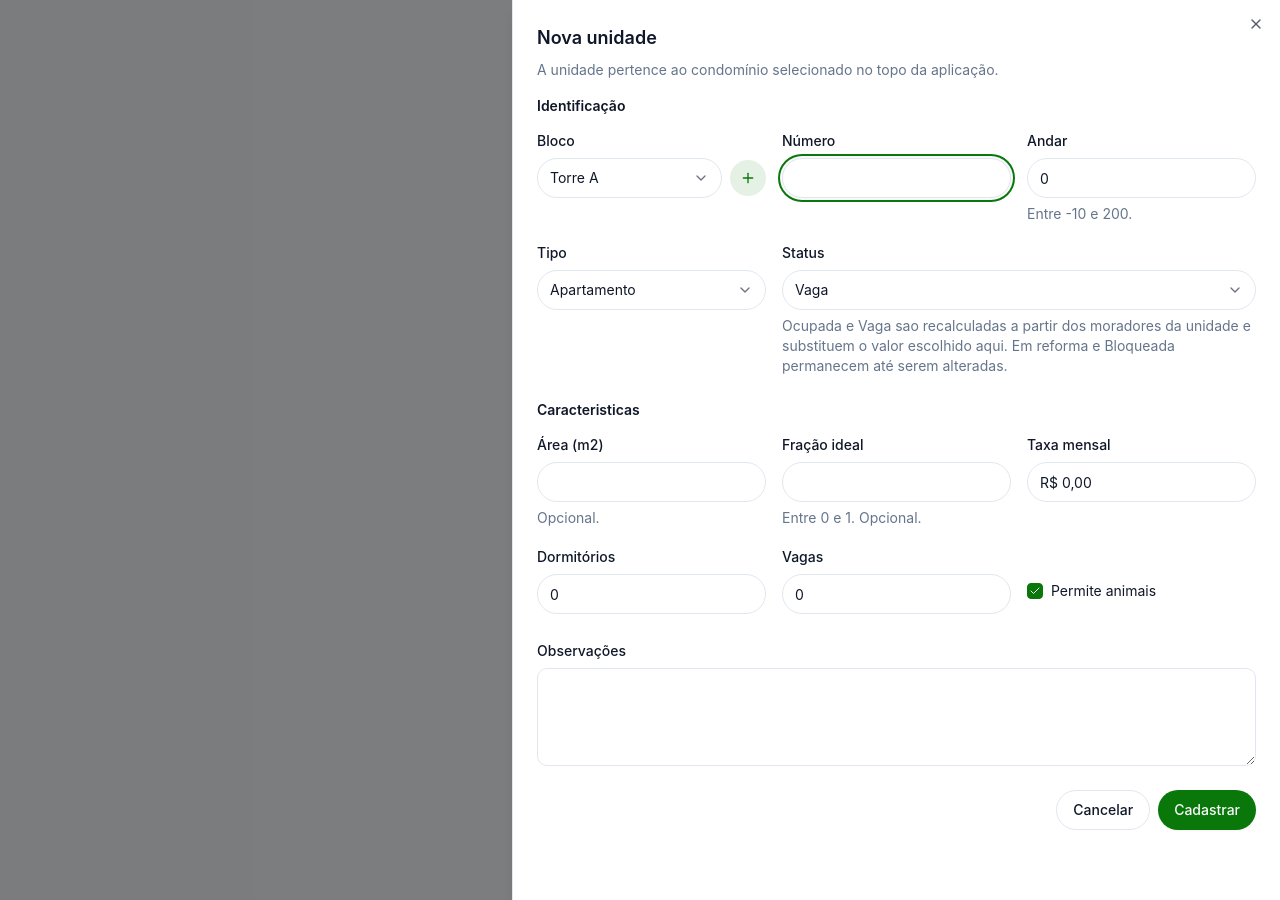
Cadastro de unidade › IT-055: 409 de bloco em outro condomínio aparece com a mensagem do servidor
Step 1. Type "101" into the field labelled "Número" → (896, 178), box [782,158,1011,198]
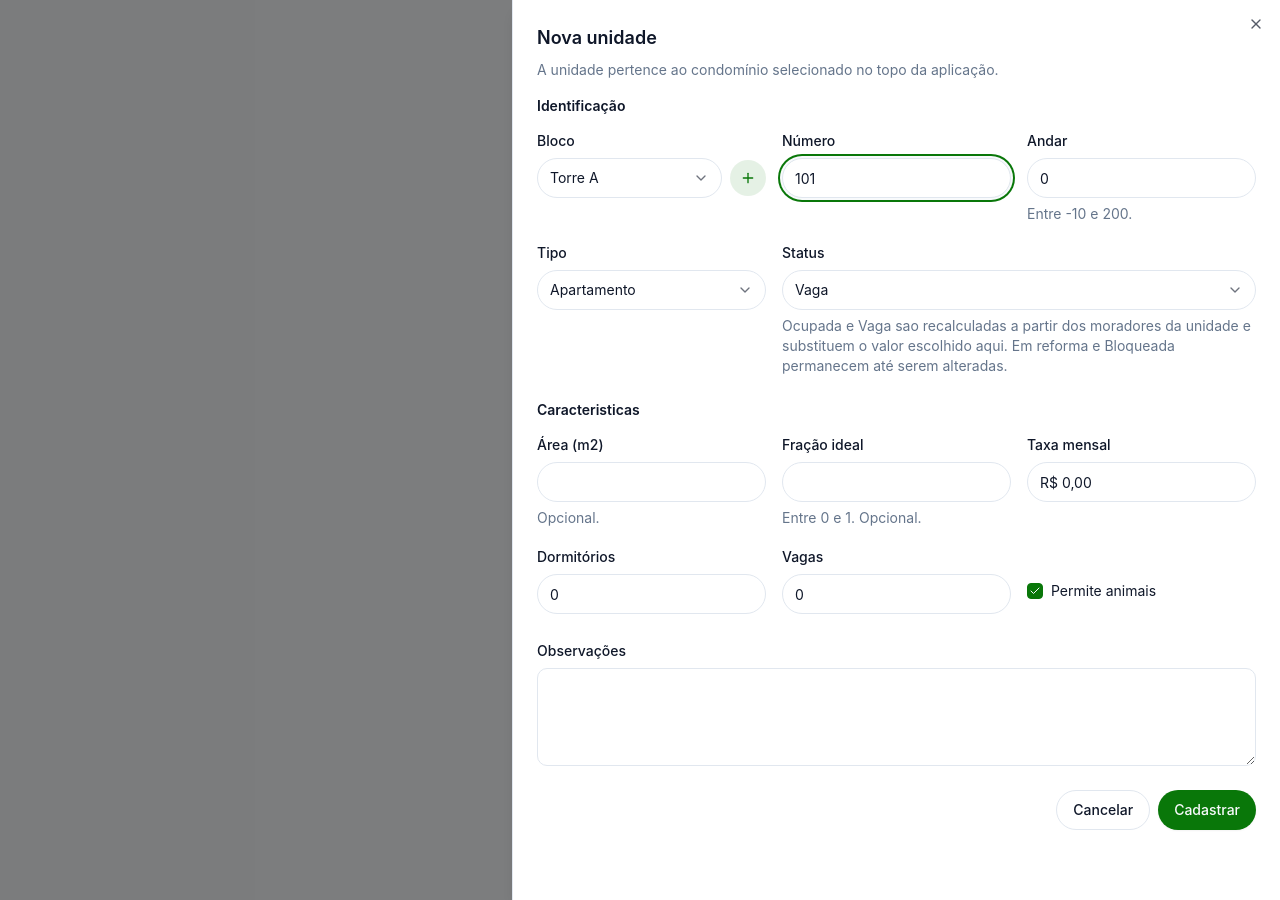
Step 2. Click the button "Cadastrar" → (1207, 810), box [1158,790,1256,830]
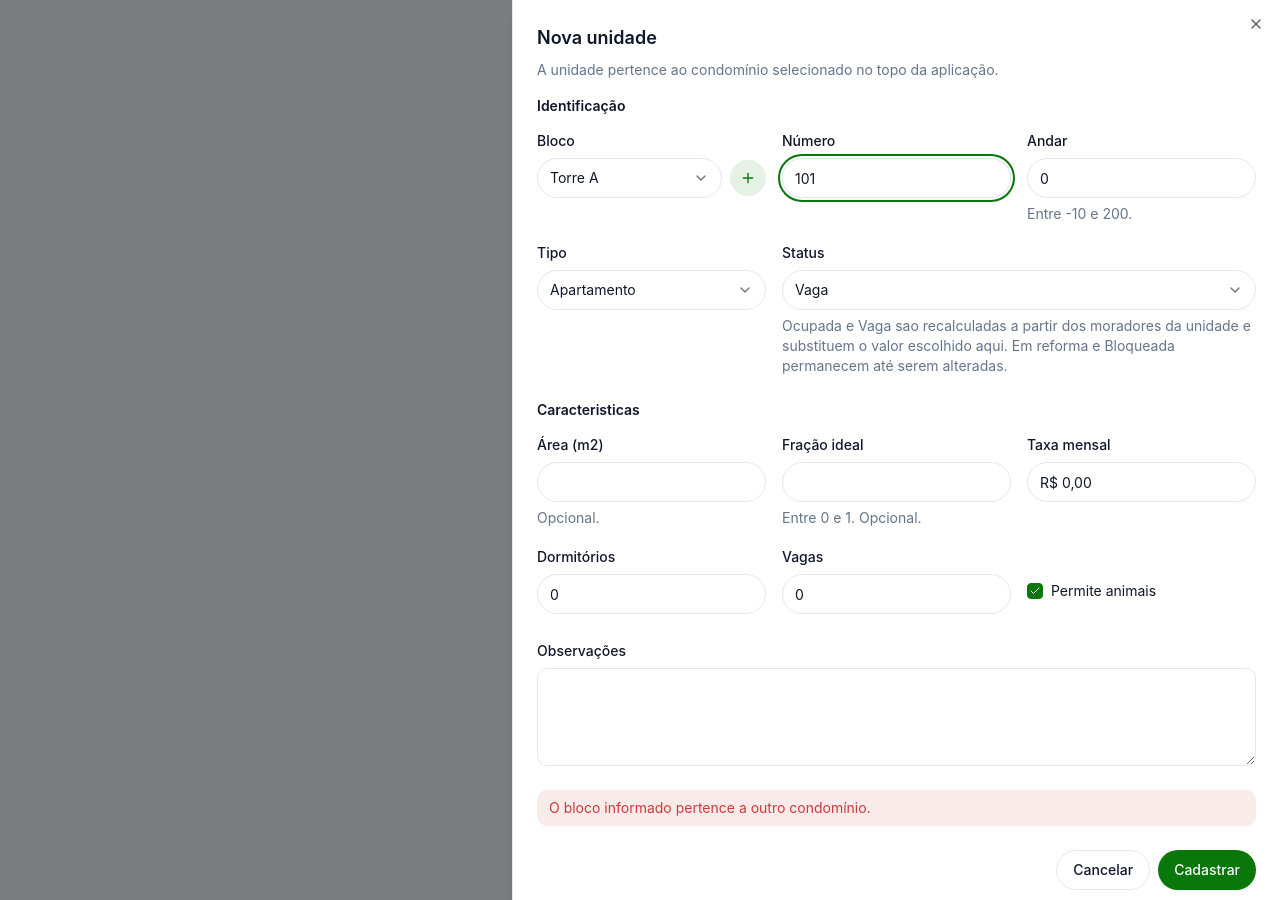
Expected: the text "O bloco informado pertence a outro condomínio." is shown, [549,799,871,816]
